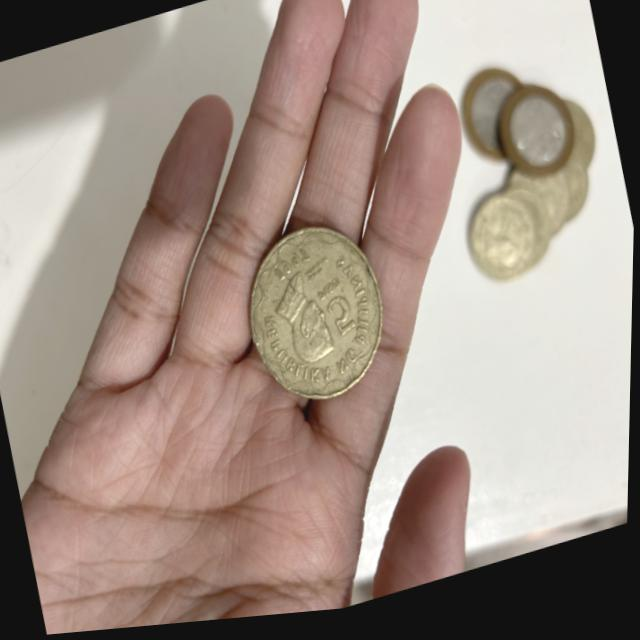5_Old_Front: (304, 265, 367, 346)
